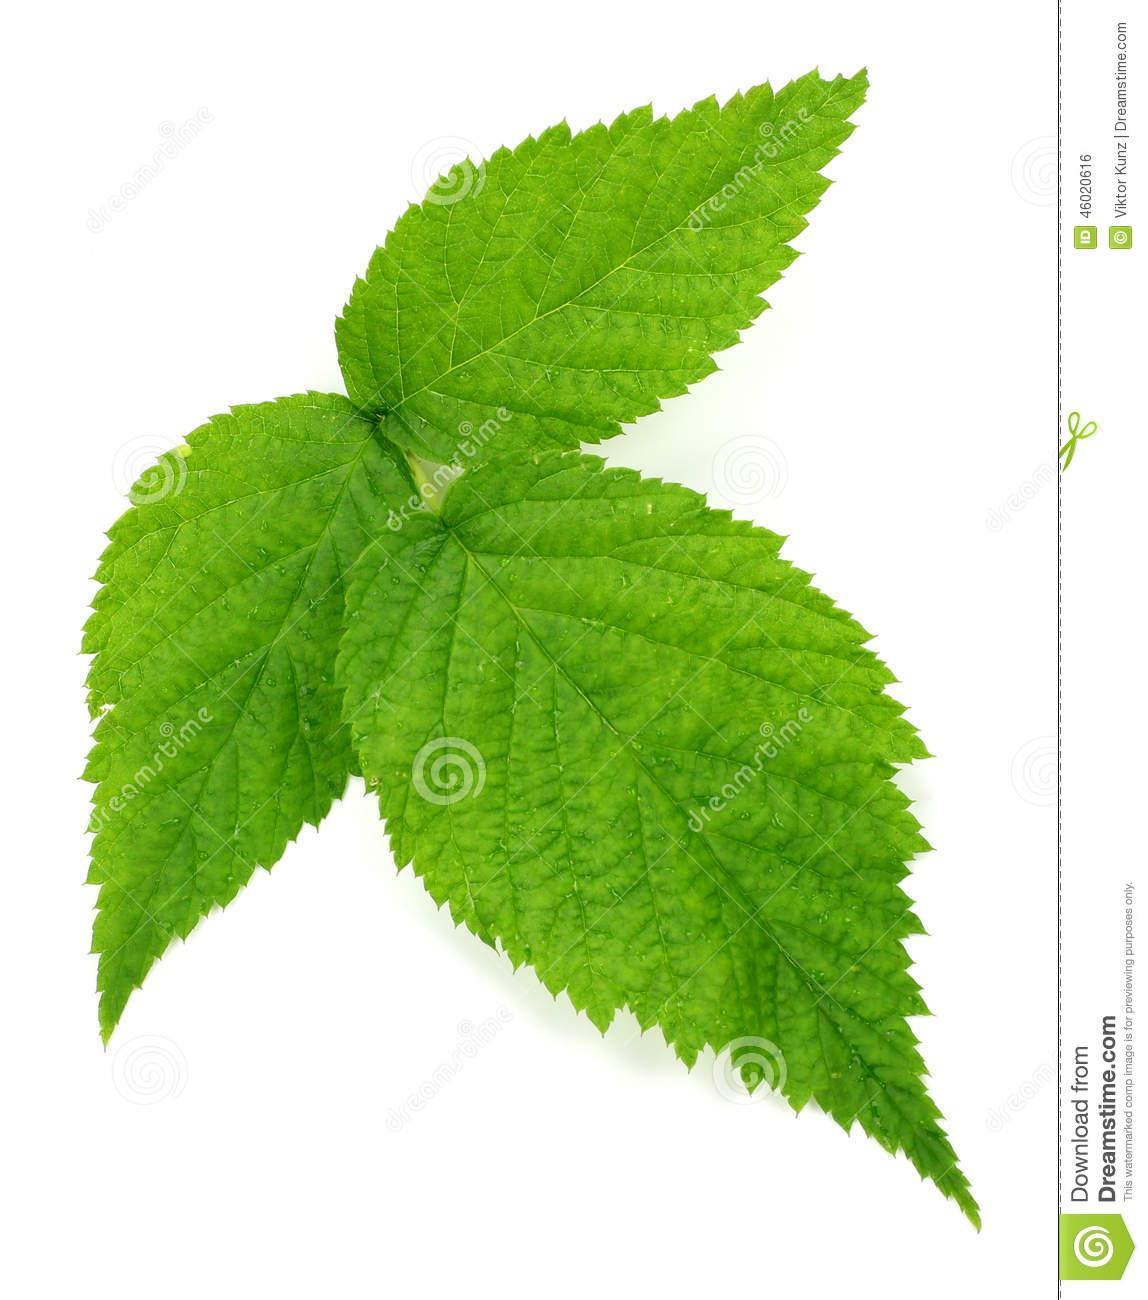Raspberry leaf: (335, 449, 1001, 1227), (52, 391, 430, 1051), (335, 58, 883, 464)
